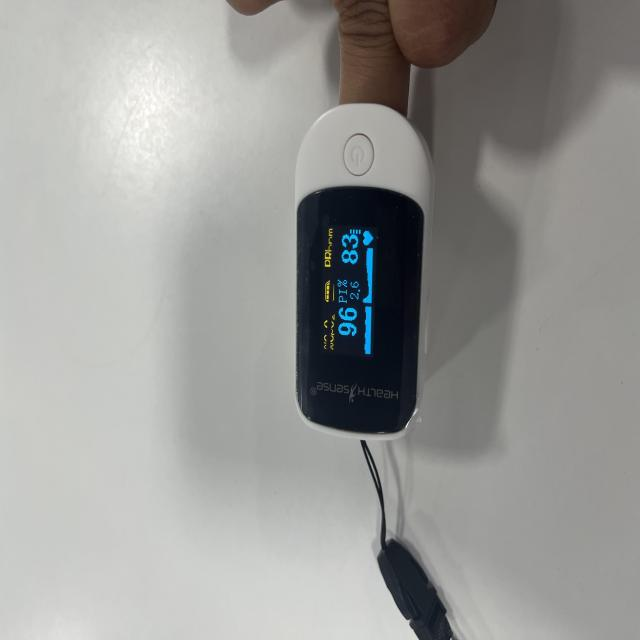spo2: (293, 103, 435, 442)
